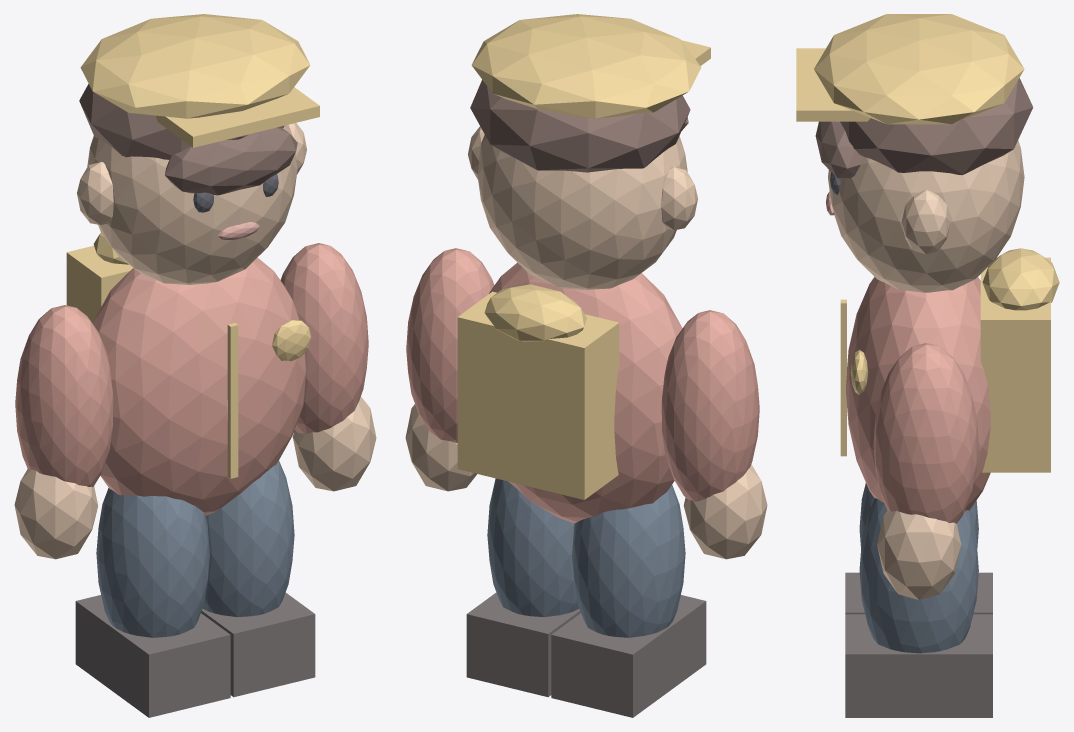
Rendered from witness_01.glb.
3 renders of one model, left to right at view 1: azimuth 30°, elevation 25°; view 2: azimuth 150°, elevation 25°; view 3: azimuth 270°, elevation 25°, orthographic.
Parts seen in each view (by area): view 1: torso, cap_crown, head, left_upper_arm, left_leg, left_boot, right_upper_arm, right_leg, right_boot, hair_fringe, left_hand, right_hand (+6 smaller); view 2: backpack, head, cap_crown, torso, left_upper_arm, left_leg, left_boot, hair_cap, right_upper_arm, right_leg, right_boot, left_hand (+3 smaller); view 3: cap_crown, head, right_upper_arm, torso, right_boot, backpack, right_leg, hair_cap, right_hand, backpack_roll, cap_brim, right_ear (+5 smaller).
Boxes of the visible parts, x1,y1,x2,y2 form: torso: [92, 257, 306, 515]; cap_crown: [80, 14, 310, 118]; head: [87, 124, 297, 284]; left_upper_arm: [15, 305, 113, 486]; left_leg: [96, 488, 209, 637]; left_boot: [75, 595, 230, 717]; right_upper_arm: [280, 243, 368, 433]; right_leg: [202, 461, 294, 617]; right_boot: [201, 592, 315, 697]; hair_fringe: [165, 127, 297, 195]; left_hand: [14, 469, 98, 559]; right_hand: [292, 396, 376, 491]; backpack: [457, 291, 619, 499]; head: [477, 135, 687, 290]; cap_crown: [471, 14, 701, 118]; torso: [489, 262, 682, 522]; left_upper_arm: [661, 310, 759, 501]; left_leg: [572, 484, 685, 637]; left_boot: [551, 595, 706, 717]; hair_cap: [470, 80, 690, 172]; right_upper_arm: [406, 248, 494, 442]; right_leg: [487, 478, 579, 617]; right_boot: [466, 592, 580, 697]; left_hand: [683, 464, 767, 559]; cap_crown: [814, 14, 1024, 124]; head: [828, 140, 1024, 292]; right_upper_arm: [873, 343, 978, 523]; torso: [846, 277, 990, 510]; right_boot: [845, 614, 992, 717]; backpack: [980, 257, 1050, 472]; right_leg: [859, 498, 978, 653]; hair_cap: [840, 78, 1033, 175]; right_hand: [877, 510, 961, 600]; backpack_roll: [982, 248, 1059, 310]; cap_brim: [796, 48, 870, 121]; right_ear: [901, 190, 950, 254].
Bounding box in the file's own units: 1.16 × 2 × 0.75.
